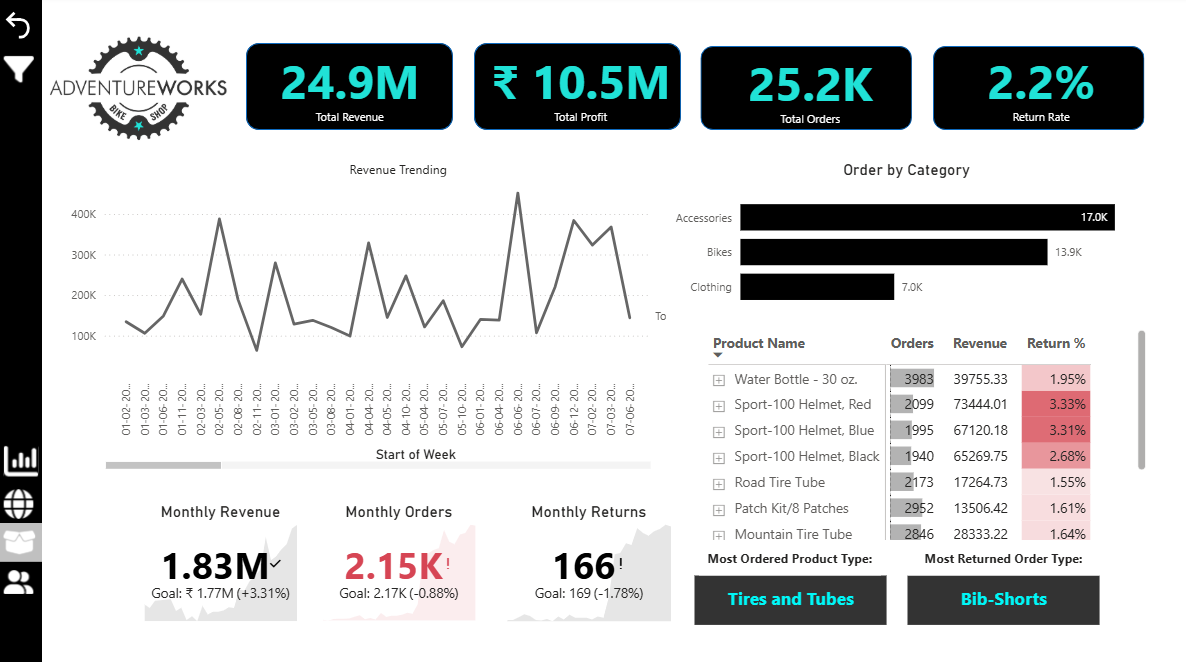

Layout of this report page (visuals, bound fields, positions):
{"tool":"powerbi","page":{"name":"EXEC DASH","canvas":[1280,720],"ordinal":0},"visuals":[{"type":"image","box":[27.5,0,244.5,200.8],"z":0},{"type":"card","fields":{"Values":["Measure Table.Total Revenue"]},"box":[251,42.1,252.6,113.3],"z":0,"group":"g3"},{"type":"group","id":"g1","title":"KPI Background","box":[265.6,51.8,969.9,93.9],"z":0,"group":"g2"},{"type":"shape","box":[265.6,51.8,223.5,93.9],"z":0,"group":"g1"},{"type":"actionButton","box":[0,529,45.3,40.1],"z":0,"group":"g4"},{"type":"group","id":"g2","title":"KPI","box":[251,42.1,999.1,115],"z":1000},{"type":"group","id":"g3","title":"KPI Values","box":[251,42.1,999.1,115],"z":1000,"group":"g2"},{"type":"card","fields":{"Values":["Measure Table.Return Rate"]},"box":[997.5,42.1,252.6,113.3],"z":1000,"group":"g3"},{"type":"shape","box":[511.2,51.8,223.5,93.9],"z":1000,"group":"g1"},{"type":"actionButton","box":[0,614.1,45.3,40.1],"z":1000,"group":"g4"},{"type":"card","fields":{"Values":["Measure Table.Total Profit"]},"box":[499.8,42.1,252.6,113.3],"z":2000,"group":"g3"},{"type":"shape","box":[756.8,55,228.3,90.7],"z":2000,"group":"g1"},{"type":"actionButton","box":[0,528.4,45.3,40.5],"z":2000},{"type":"actionButton","box":[0,570.7,45.3,41.7],"z":2000,"group":"g4"},{"type":"card","fields":{"Values":["Measure Table.Total Orders"]},"box":[748.6,43.7,252.6,113.3],"z":3000,"group":"g3"},{"type":"shape","box":[1007.2,55,228.3,90.7],"z":3000,"group":"g1"},{"type":"lineChart","title":"Revenue Trending","fields":{"Y":["Measure Table.Total Revenue"],"Category":["Calendar Lookup.Date Hierarchy.Year","Calendar Lookup.Date Hierarchy.Start of Year","Calendar Lookup.Date Hierarchy.Start of Month","Calendar Lookup.Date Hierarchy.Start of Week"]},"box":[71.2,178.1,717.3,338.4],"z":3000},{"type":"actionButton","box":[0,479.3,45.3,48.1],"z":3000,"group":"g4"},{"type":"actionButton","box":[0,614.2,45.3,40.5],"z":4000},{"type":"shape","title":"Left Nav Background","box":[0,1.1,45.3,718.9],"z":5000},{"type":"actionButton","box":[0,570.5,45.3,42.1],"z":6000},{"type":"kpi","title":"Monthly Revenue","fields":{"Indicator":["Measure Table.Total Revenue"],"TrendLine":["Calendar Lookup.Date Hierarchy.Start of Month"],"Goal":["Measure Table.Previous Month Revenue"]},"box":[150,546.7,175,133.3],"z":7000},{"type":"kpi","title":"Monthly Returns","fields":{"TrendLine":["Calendar Lookup.Date Hierarchy.Start of Month"],"Indicator":["Measure Table.Total Returns"],"Goal":["Measure Table.Previous Month Returns"]},"box":[541.7,546.7,186.7,133.3],"z":8000},{"type":"kpi","title":"Monthly Orders","fields":{"TrendLine":["Calendar Lookup.Date Hierarchy.Start of Month"],"Goal":["Measure Table.Previous Month Orders"],"Indicator":["Measure Table.Total Orders"]},"box":[343.3,547.3,174.9,132.8],"z":9000},{"type":"barChart","title":"Order by Category","fields":{"Category":["Product Categories Lookup.CategoryName"],"Y":["Measure Table.Total Orders"]},"box":[718.9,178.1,519.8,181.4],"z":10000},{"type":"pivotTable","fields":{"Rows":["Product Lookup.ProductName","Product Categories Lookup.CategoryName"],"Values":["Measure Table.Total Orders","Measure Table.Total Revenue","Measure Table.Return Rate"]},"box":[759.4,356.2,482.5,236.4],"z":11000},{"type":"card","fields":{"Values":["Min(Product Subcategories Lookup.SubcategoryName)"]},"box":[749.7,626.6,207.3,53.4],"z":12000},{"type":"textbox","box":[754.6,592.6,195.9,34],"z":13000},{"type":"card","fields":{"Values":["Min(Product Subcategories Lookup.SubcategoryName)"]},"box":[979.6,626.6,207.3,53.4],"z":14000},{"type":"textbox","box":[979.6,592.6,207.3,34],"z":15000},{"type":"actionButton","box":[0,13,45.3,38.9],"z":16000},{"type":"group","id":"g4","title":"Navigation buttons","box":[0,479.3,45.3,174.9],"z":17000},{"type":"actionButton","box":[0,59.9,45.3,40.5],"z":18000}]}

Visuals, with their boxes on the page's 1280x720 design canvas (x1, y1, x2, y2). These are canvas units, not pixel positions in the 1186x662 screenshot, which may show the page scaled, cropped or inside an application window:
image: box(28, 0, 272, 201)
card - Measure Table.Total Revenue: box(251, 42, 504, 155)
"KPI Background" group: box(266, 52, 1236, 146)
shape: box(266, 52, 489, 146)
actionButton: box(0, 529, 45, 569)
"KPI" group: box(251, 42, 1250, 157)
"KPI Values" group: box(251, 42, 1250, 157)
card - Measure Table.Return Rate: box(998, 42, 1250, 155)
shape: box(511, 52, 735, 146)
actionButton: box(0, 614, 45, 654)
card - Measure Table.Total Profit: box(500, 42, 752, 155)
shape: box(757, 55, 985, 146)
actionButton: box(0, 528, 45, 569)
actionButton: box(0, 571, 45, 612)
card - Measure Table.Total Orders: box(749, 44, 1001, 157)
shape: box(1007, 55, 1236, 146)
"Revenue Trending" lineChart: box(71, 178, 788, 516)
actionButton: box(0, 479, 45, 527)
actionButton: box(0, 614, 45, 655)
"Left Nav Background" shape: box(0, 1, 45, 720)
actionButton: box(0, 570, 45, 613)
"Monthly Revenue" kpi: box(150, 547, 325, 680)
"Monthly Returns" kpi: box(542, 547, 728, 680)
"Monthly Orders" kpi: box(343, 547, 518, 680)
"Order by Category" barChart: box(719, 178, 1239, 360)
pivotTable - Product Lookup.ProductName x Product Categories Lookup.CategoryName: box(759, 356, 1242, 593)
card - Min(Product Subcategories Lookup.SubcategoryName): box(750, 627, 957, 680)
textbox: box(755, 593, 950, 627)
card - Min(Product Subcategories Lookup.SubcategoryName): box(980, 627, 1187, 680)
textbox: box(980, 593, 1187, 627)
actionButton: box(0, 13, 45, 52)
"Navigation buttons" group: box(0, 479, 45, 654)
actionButton: box(0, 60, 45, 100)
